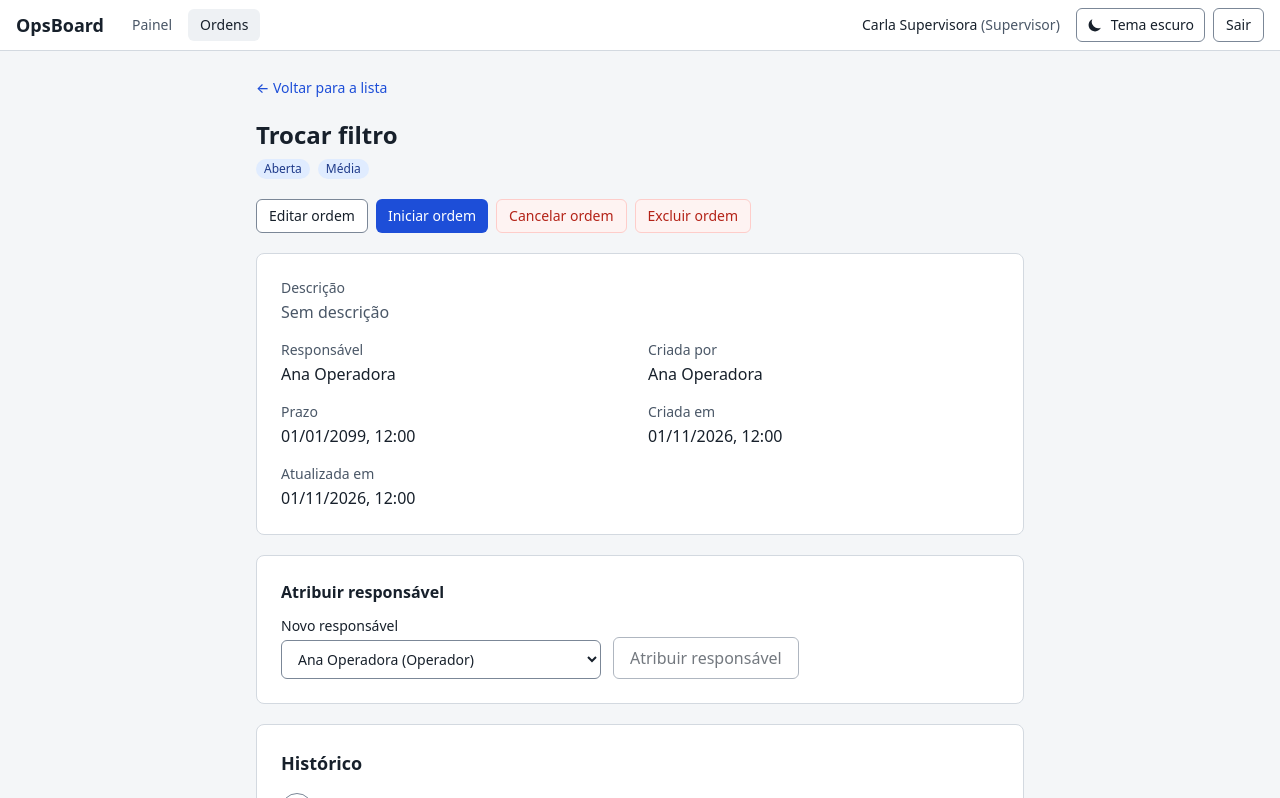
Test: Detalhe da ordem: atribuir e excluir › o aviso e o foco aparecem mesmo quando o detalhe volta antes do histórico
Expected: the heading "Trocar filtro" is shown, [256, 118, 398, 151]
Select "Bruno Operador (Operador)" in the dropdown labelled "Novo responsável" at (441, 660), box [281, 640, 601, 679]
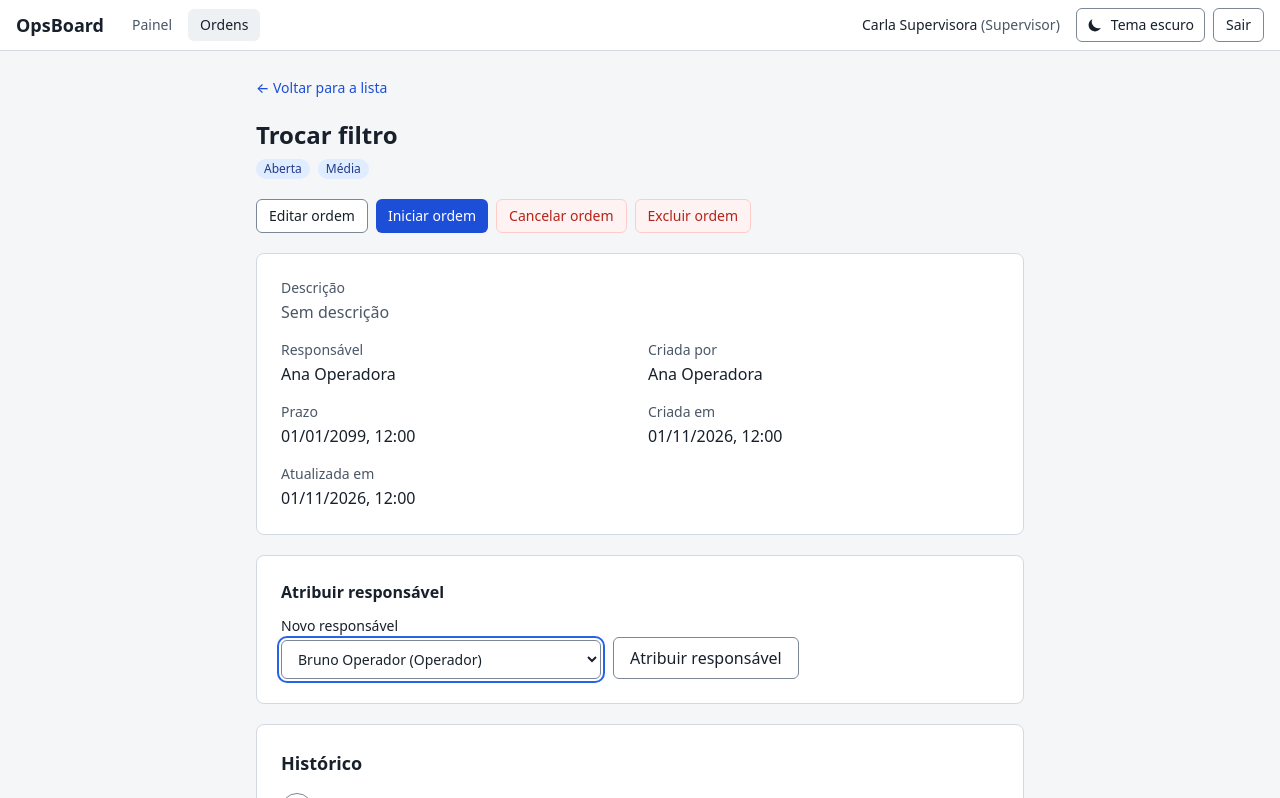
Click the button "Atribuir responsável".
click(706, 658)  # box [613, 637, 799, 679]
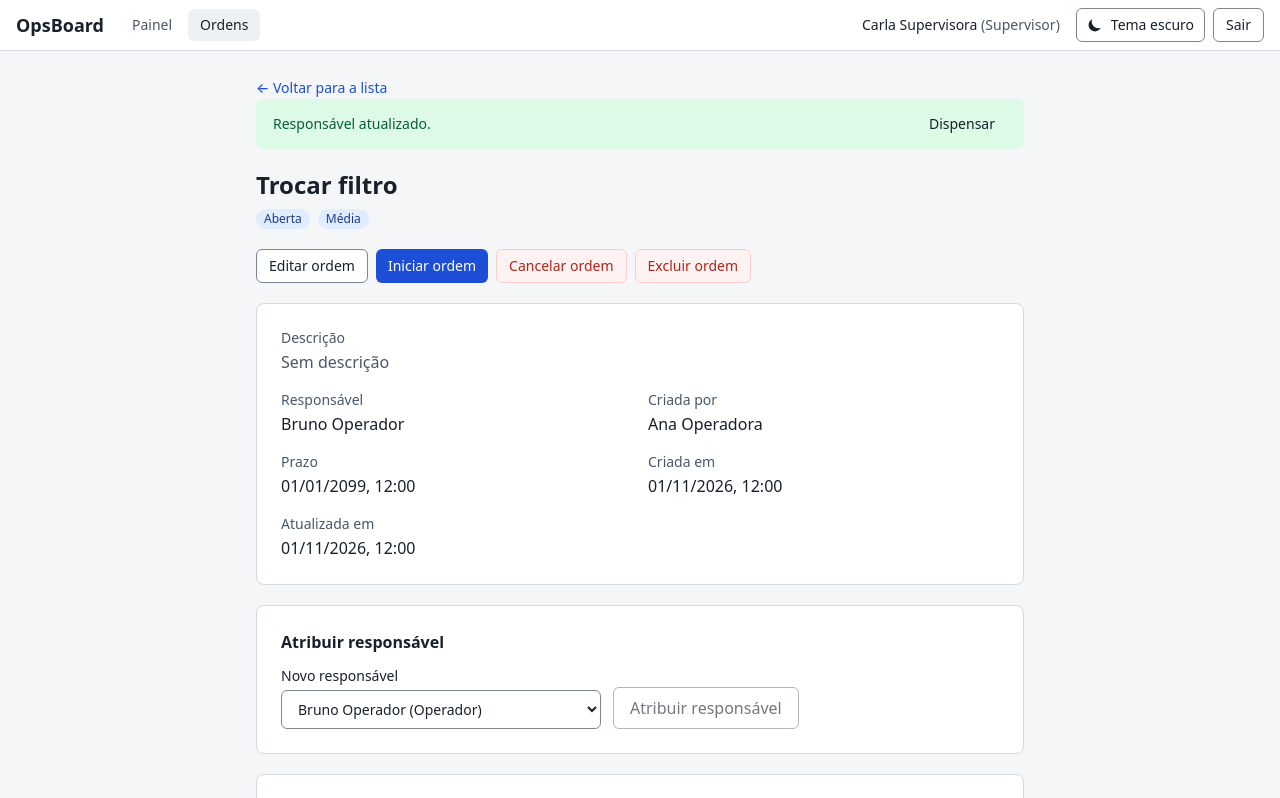
Expected: the text "Bruno Operador" is shown, [281, 413, 404, 435]
Expected: the text "Responsável atualizado." is shown, [273, 114, 431, 134]
Expected: the button "Atribuir responsável" is disabled, [613, 687, 799, 729]
